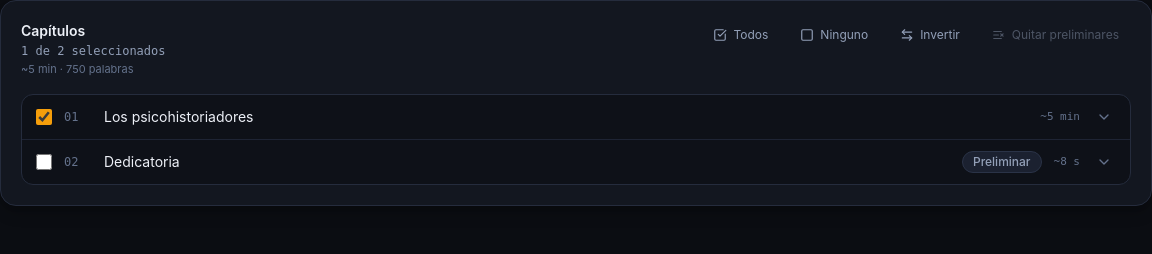
Test: ChapterList › expands a row, fetches its preview once and renders the text
Click the button named "Ver fragmento de Los psicohistoriadores".
click(1104, 116)  # box [1092,104,1116,128]
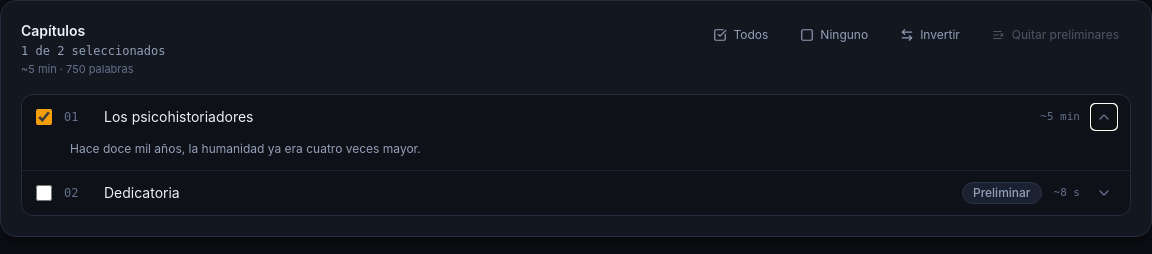
Now the text "Hace doce mil años, la humanidad ya era cuatro veces mayor." is shown, box [70,140,421,156]
Now the button named "Ocultar fragmento de Los psicohistoriadores" is expanded, box [1092,104,1116,128]
